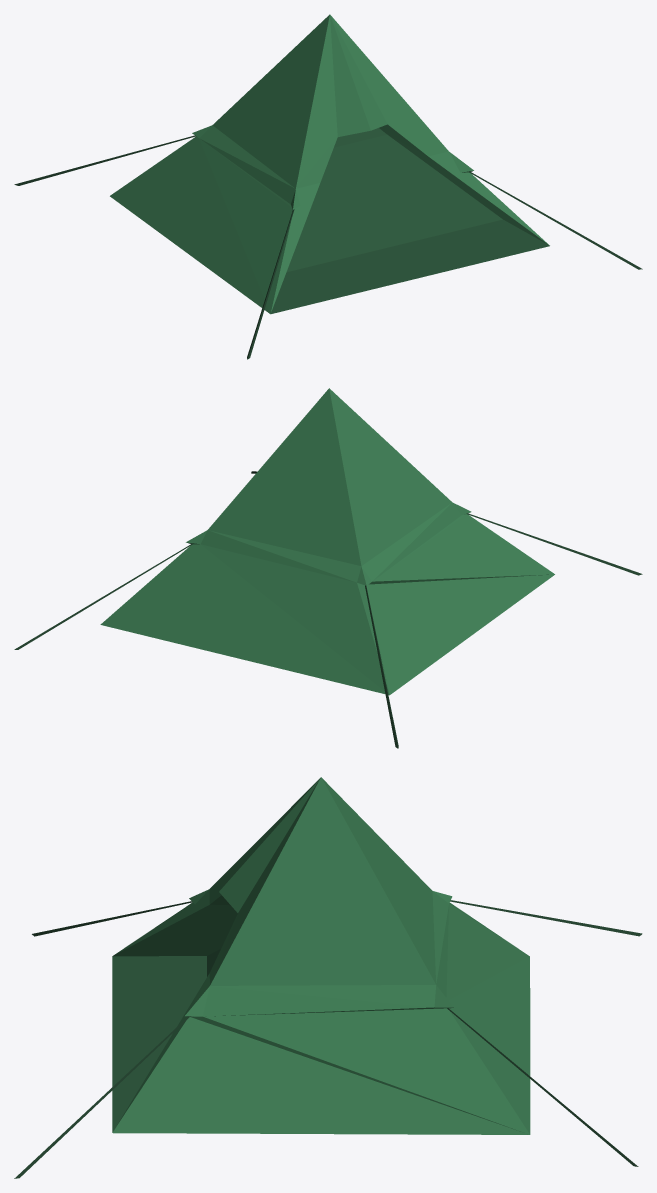
Rendered from SM_tent_2_AN.fbx.
The picture shows the model from 3 angles, top to bottom: view 1: azimuth 30°, elevation 25°; view 2: azimuth 150°, elevation 25°; view 3: azimuth 270°, elevation 25°; orthographic projection. The views are drawn at different scales.
Visible parts, largest first — view 1: SM_tent_2_AN; view 2: SM_tent_2_AN; view 3: SM_tent_2_AN.
Part boxes in pixels (x1,y1,x2,y2): SM_tent_2_AN: (14, 14, 642, 359); SM_tent_2_AN: (14, 388, 642, 748); SM_tent_2_AN: (14, 777, 642, 1178).
Bounding box in the file's own units: 202 × 108 × 219.
